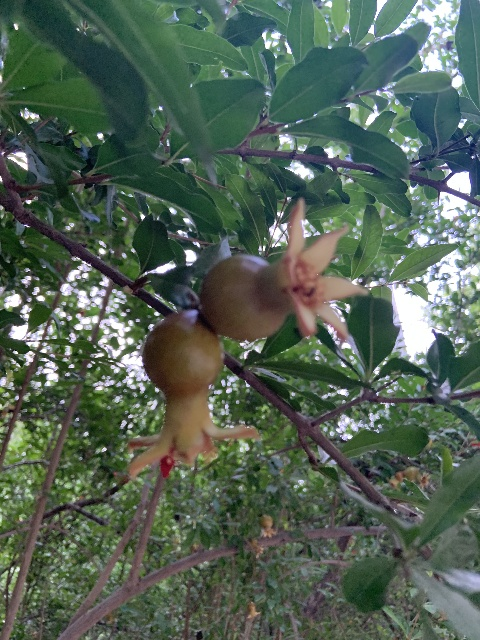early-fruit: (200, 197, 369, 344), (125, 312, 260, 480), (259, 514, 277, 536), (386, 470, 404, 490), (246, 602, 260, 619), (272, 629, 283, 640)
mid-growth: (405, 466, 430, 488)
